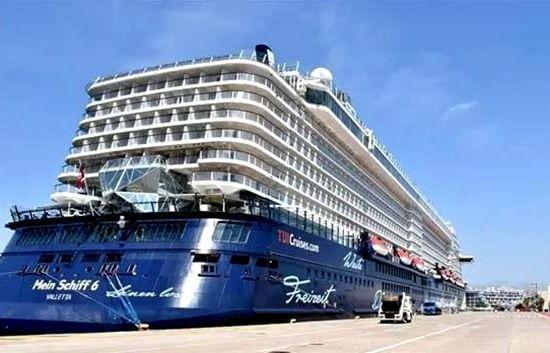Ship: (10, 66, 468, 313)
